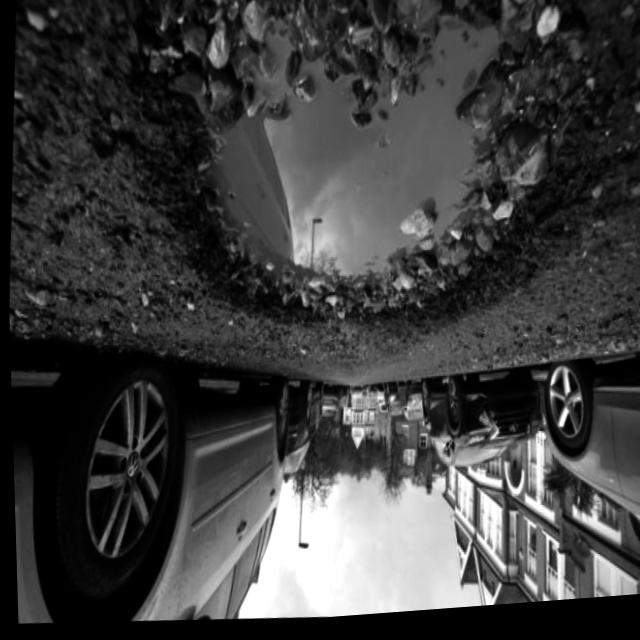pathole: (194, 0, 617, 360)
